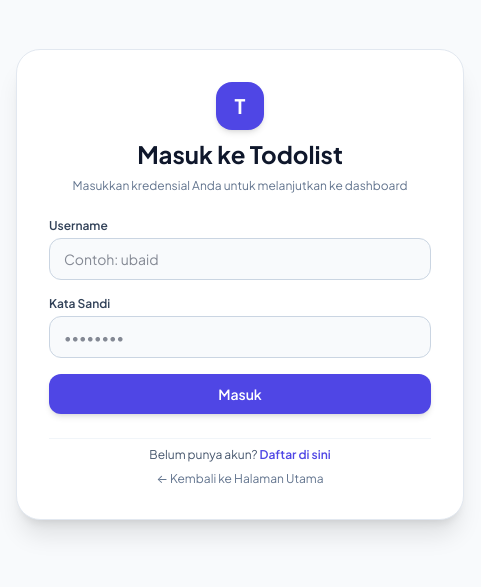
Test: AuthPage Component › handles fallback error message when error has no message
Step 1. Type "user1" into the field with id "login-username" → (240,258), box [49,238,431,280]
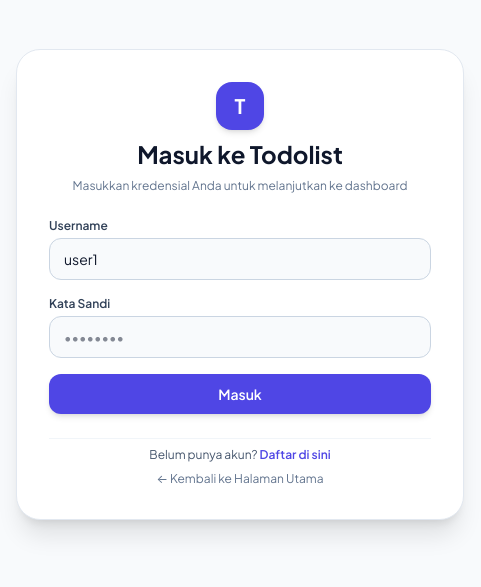
Step 2. Type "pass1" into the password field with id "login-password" → (240,336), box [49,316,431,358]
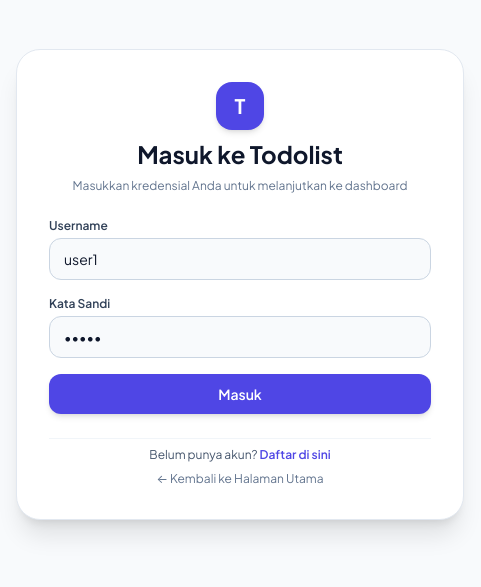
Step 3. Click the button with id "login-submit" → (240,394), box [49,374,431,414]
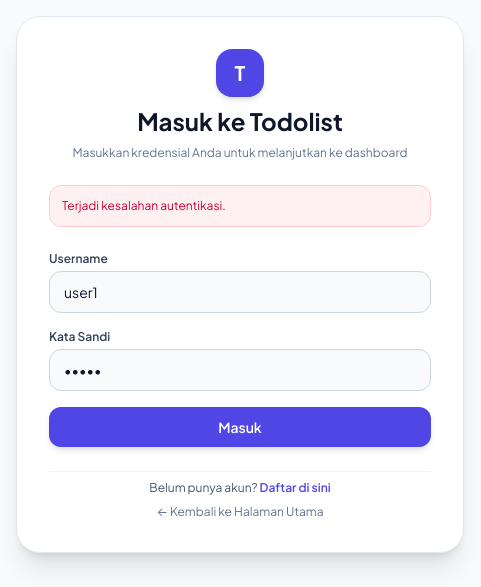
Check: the text with test id "auth-error-msg" reads "Terjadi kesalahan autentikasi.", box [62,198,226,212]
